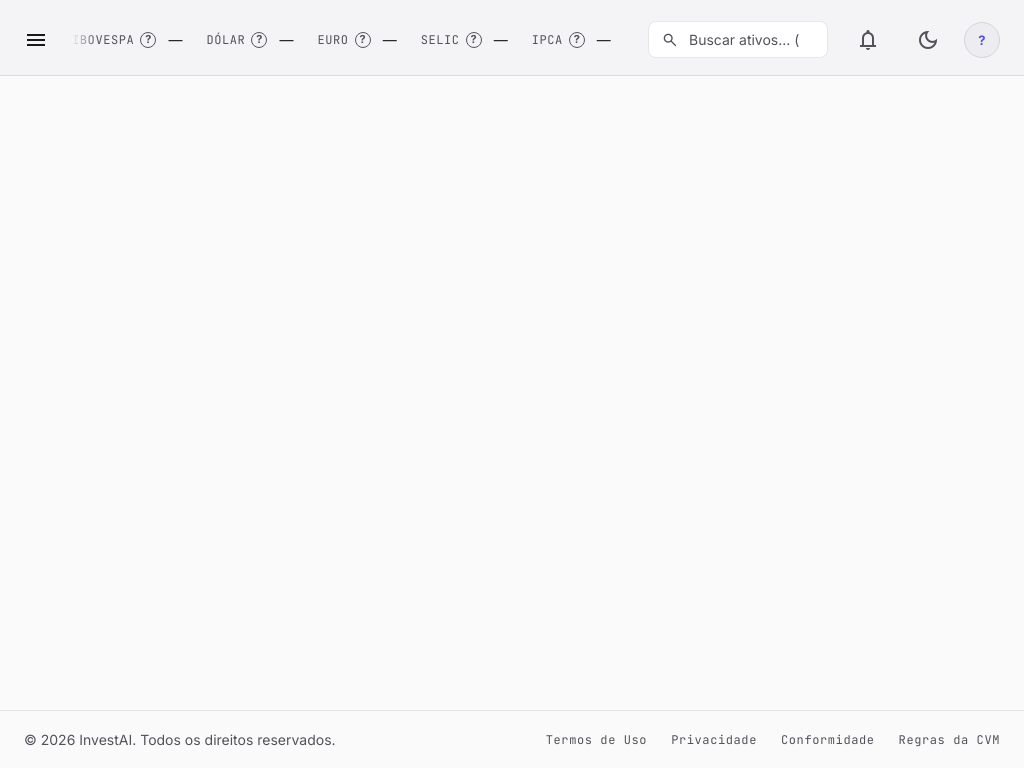
Test: AppShellComponent › botão de menu deve abrir a navegação e mostrar o fundo escuro
Click the button with class "header__menu" at (36, 40), box top-left (16, 20), bottom-right (56, 60)
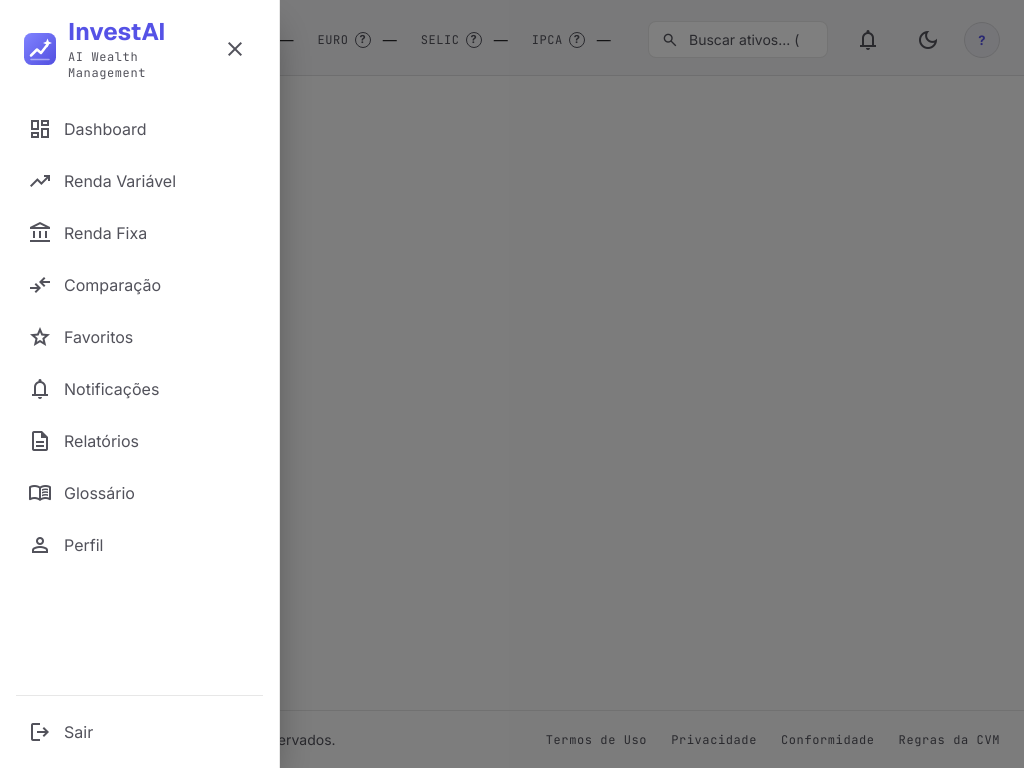
Result: the element with class "shell__fundo" is shown
Result: the button with class "header__menu" is expanded at top-left (16, 20), bottom-right (56, 60)
